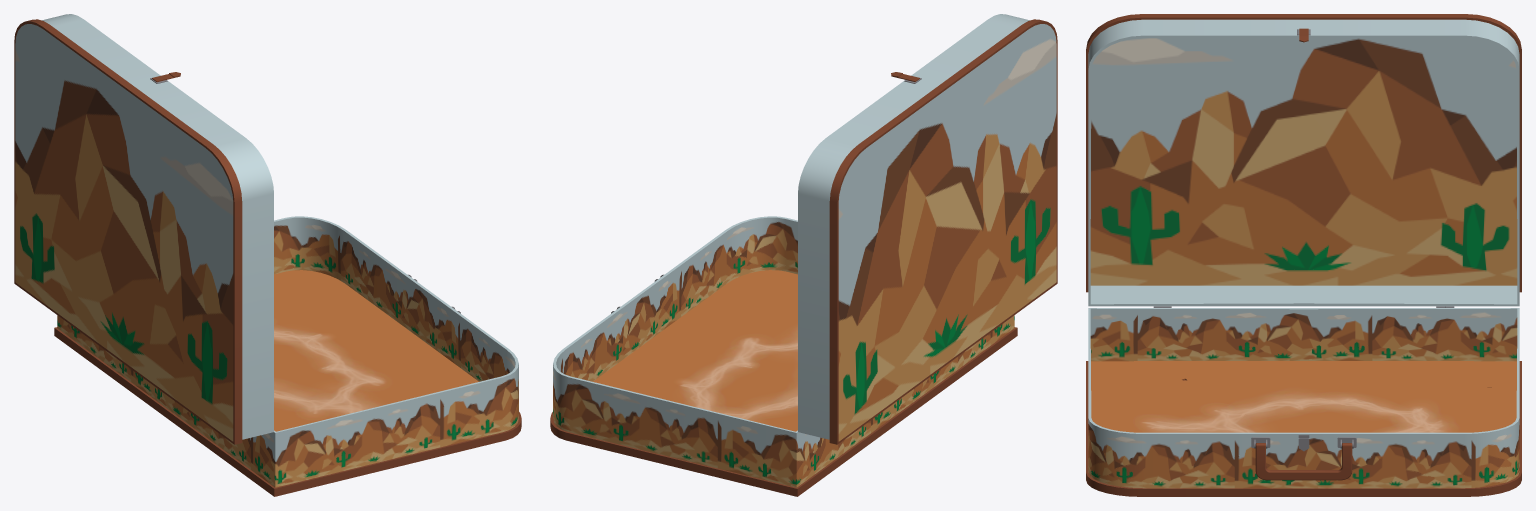
Rendered from Koffer_fertig.fbx.
The picture shows the model from 3 angles, left to right: view 1: azimuth 30°, elevation 25°; view 2: azimuth 150°, elevation 25°; view 3: azimuth 270°, elevation 25°; orthographic projection.
Parts seen in each view (by area): view 1: Cube.043; view 2: Cube.043; view 3: Cube.043.
Boxes of the visible parts, bbox=[...] form: Cube.043: bbox=[14, 14, 521, 496]; Cube.043: bbox=[550, 14, 1057, 496]; Cube.043: bbox=[1086, 14, 1521, 496].
Size of the model in its own units: 5365 by 5590 by 6568.
